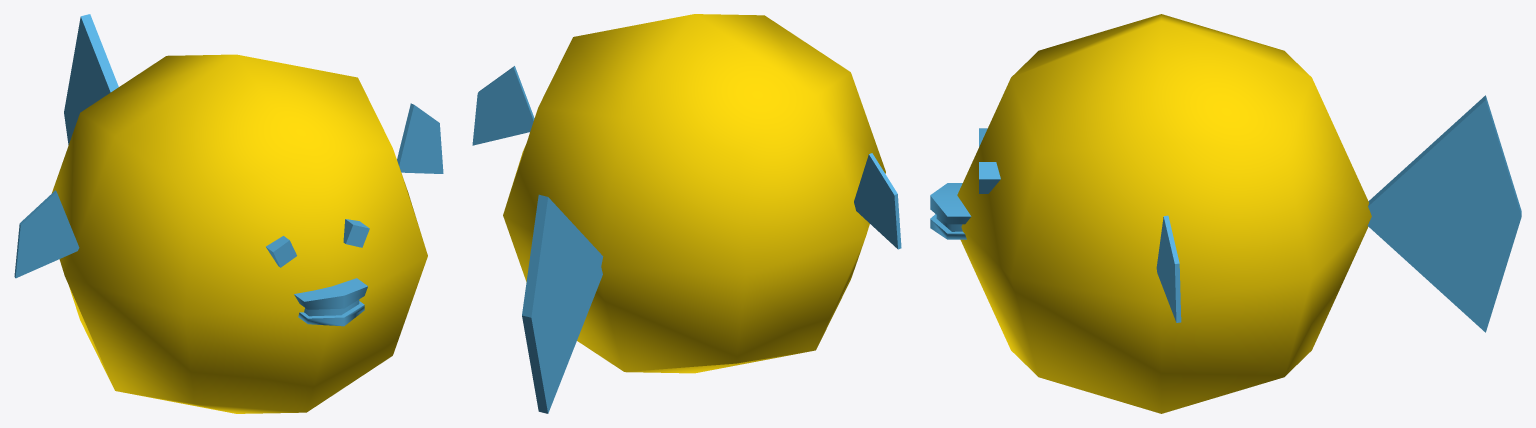
Rendered from Puffer.fbx.
3 renders of one model, left to right at view 1: azimuth 30°, elevation 25°; view 2: azimuth 150°, elevation 25°; view 3: azimuth 270°, elevation 25°, orthographic. The views are drawn at different scales.
Parts seen in each view (by area): view 1: Puffer, Fins, Tail, Mouth, Eyes; view 2: Puffer, Tail, Fins; view 3: Puffer, Tail, Mouth, Fins, Eyes.
Boxes of the visible parts, x1=… form: Puffer: x1=51, y1=54, x2=427, y2=413; Fins: x1=14, y1=103, x2=443, y2=278; Tail: x1=64, y1=14, x2=118, y2=144; Mouth: x1=294, y1=278, x2=367, y2=326; Eyes: x1=266, y1=219, x2=369, y2=267; Puffer: x1=503, y1=14, x2=885, y2=373; Tail: x1=522, y1=194, x2=603, y2=413; Fins: x1=472, y1=66, x2=901, y2=249; Puffer: x1=957, y1=14, x2=1371, y2=413; Tail: x1=1367, y1=95, x2=1521, y2=332; Mouth: x1=930, y1=183, x2=971, y2=239; Fins: x1=1156, y1=215, x2=1181, y2=322; Eyes: x1=979, y1=128, x2=1000, y2=193.
Bounding box in the file's own units: 353 × 283 × 394.
